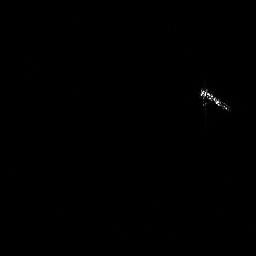ship: (195, 83, 234, 116)
